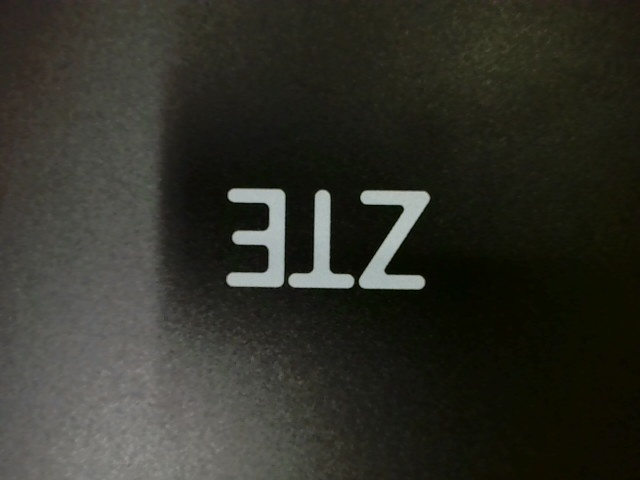AN_ZTE: (218, 178, 431, 295)
